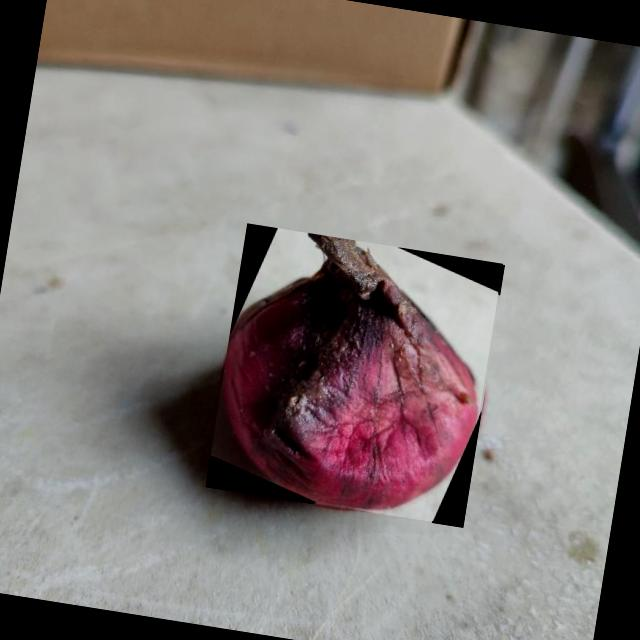rotten: (224, 234, 478, 510)
